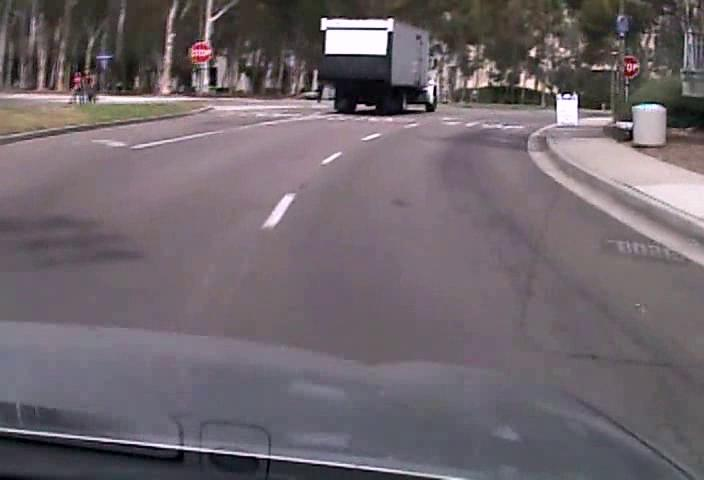stop: (190, 40, 211, 63)
